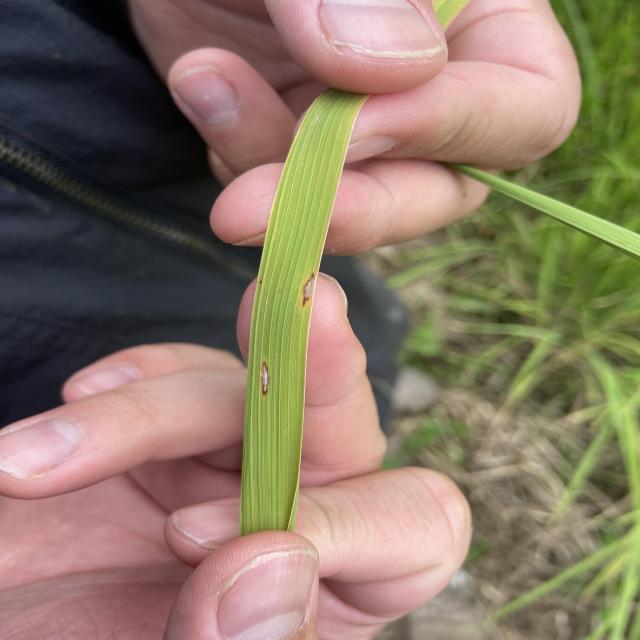Dao on: (300, 274, 318, 308), (259, 361, 271, 397)
